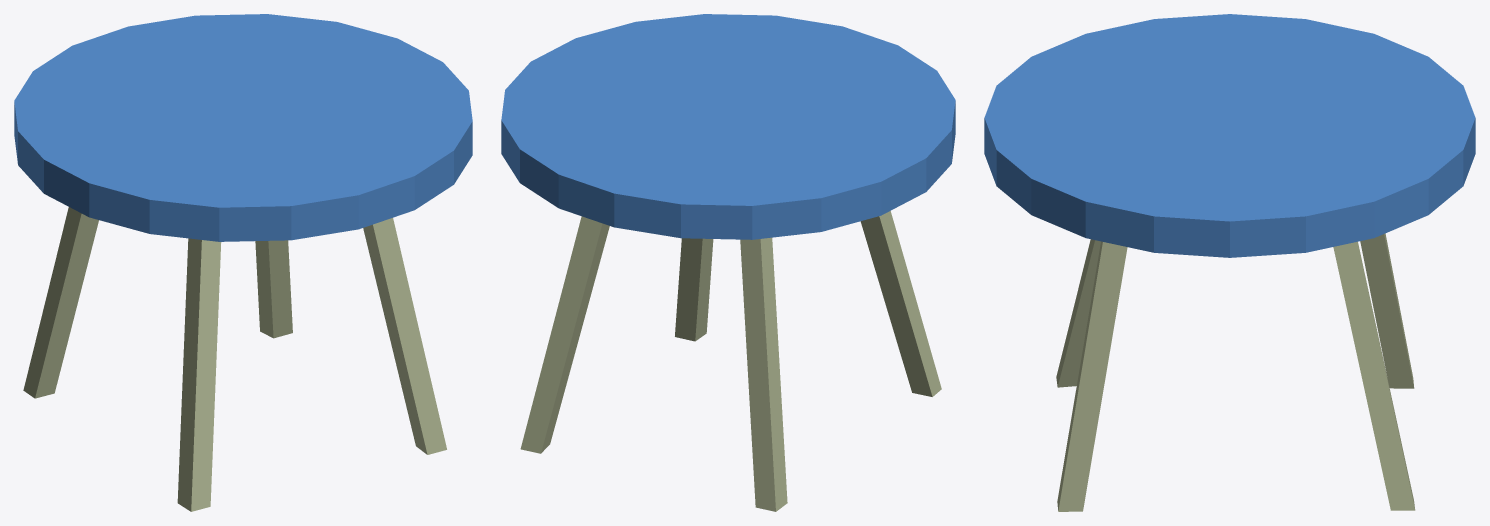
File: Kitchen_2_Table.fbx
3 views of the same model, side by side, from view 1: azimuth 30°, elevation 25°; view 2: azimuth 150°, elevation 25°; view 3: azimuth 270°, elevation 25° (orthographic). The views are drawn at different scales.
Parts seen in each view (by area): view 1: Kitchen_2_Table; view 2: Kitchen_2_Table; view 3: Kitchen_2_Table.
Boxes of the visible parts, <box> form: Kitchen_2_Table: <box>14,14,472,511</box>; Kitchen_2_Table: <box>501,14,955,511</box>; Kitchen_2_Table: <box>984,14,1475,511</box>.
Size of the model in its own units: 154 by 114 by 154.
